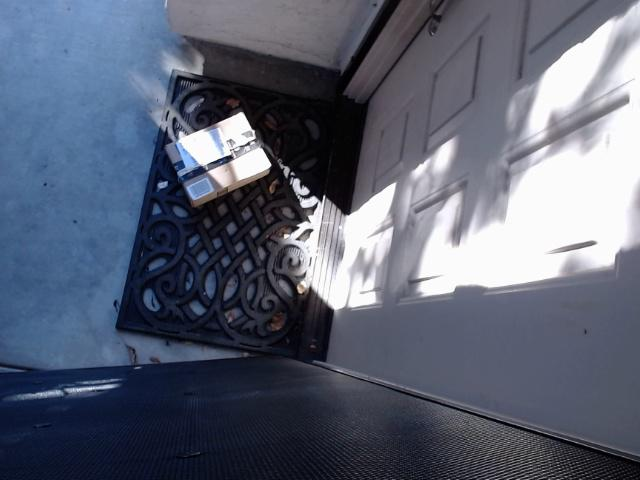box: (164, 112, 272, 208)
